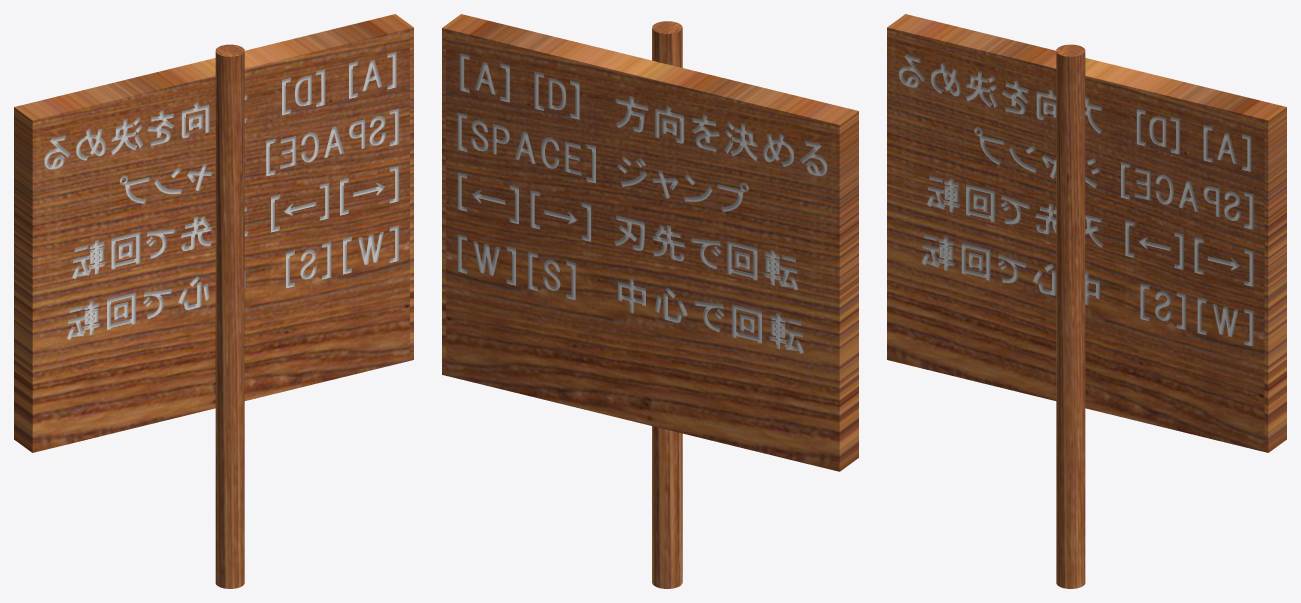
The model's file is Sign1.fbx.
The picture shows the model from 3 angles, left to right: view 1: azimuth 30°, elevation 25°; view 2: azimuth 150°, elevation 25°; view 3: azimuth 330°, elevation 25°; orthographic projection. The views are drawn at different scales.
Parts seen in each view (by area): view 1: pCube1, pCylinder1; view 2: pCube1, pCylinder1; view 3: pCube1, pCylinder1.
Boxes of the visible parts, box(x1,y1,x2,y2) form: pCube1: box(14, 14, 413, 452); pCylinder1: box(215, 44, 244, 588); pCube1: box(442, 14, 858, 471); pCylinder1: box(652, 21, 682, 588); pCube1: box(887, 14, 1286, 452); pCylinder1: box(1056, 44, 1085, 588).
Bounding box in the file's own units: 1.2 × 1.6 × 0.1781.
